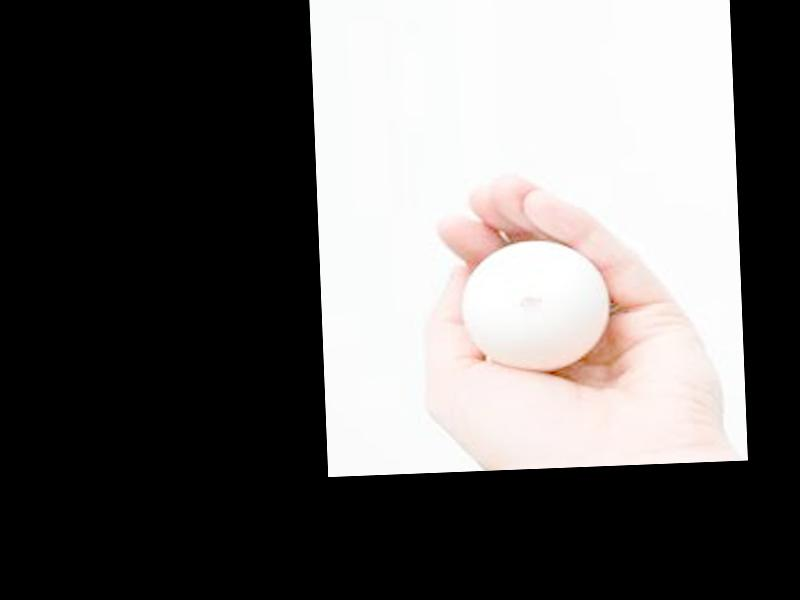Eggs: (464, 238, 609, 371)
